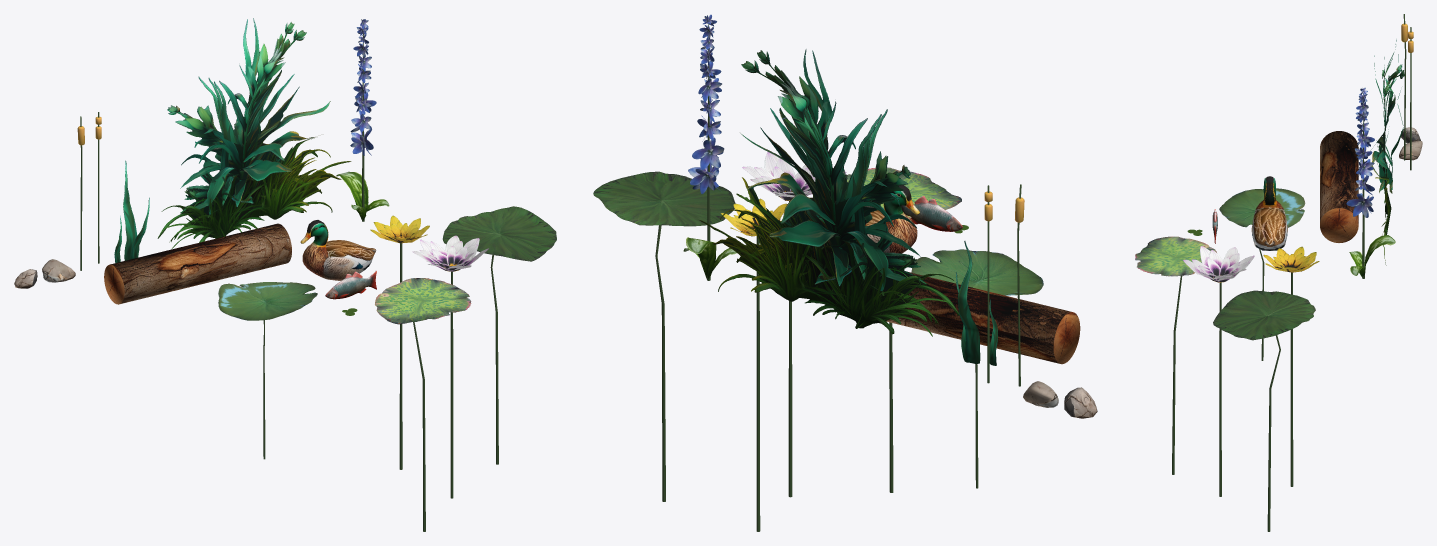
The model's file is pond.fbx.
3 views of the same model, side by side, from view 1: azimuth 30°, elevation 25°; view 2: azimuth 150°, elevation 25°; view 3: azimuth 270°, elevation 25° (orthographic). The views are drawn at different scales.
Visible parts, largest first — view 1: grass_01, Cylinder, leaf_02, leaf_03, leaf_01, reed_01, duck, lotus_02, lotus_01, water_grass_02, fish; view 2: grass_01, Cylinder, leaf_02, leaf_01, reed_01, lotus_02, leaf_03, lotus_01, duck, water_grass_02, fish, stone_02 (+3 smaller); view 3: leaf_02, Cylinder, leaf_03, reed_01, lotus_02, leaf_01, duck, grass_01, lotus_01, sedge_02, sedge_01.
Boxes of the visible parts, x1,y1,x2,y2 form: grass_01: (157, 18, 351, 249); Cylinder: (104, 223, 291, 304); leaf_02: (442, 206, 556, 464); leaf_03: (375, 278, 471, 531); leaf_01: (218, 282, 317, 459); reed_01: (336, 19, 389, 221); duck: (300, 220, 376, 280); lotus_02: (412, 235, 488, 498); lotus_01: (370, 215, 429, 469); water_grass_02: (123, 160, 149, 260); fish: (325, 270, 376, 299); grass_01: (699, 49, 959, 336); Cylinder: (886, 272, 1080, 364); leaf_02: (593, 171, 735, 501); leaf_01: (911, 249, 1043, 488); reed_01: (683, 14, 736, 280); lotus_02: (742, 152, 846, 497); leaf_03: (847, 167, 961, 492); lotus_01: (720, 198, 787, 531); duck: (865, 185, 919, 253); water_grass_02: (956, 241, 980, 364); fish: (901, 196, 962, 231); stone_02: (1064, 387, 1097, 418); leaf_02: (1213, 290, 1315, 531); Cylinder: (1320, 131, 1358, 242); leaf_03: (1135, 236, 1216, 474); reed_01: (1346, 87, 1395, 278); lotus_02: (1183, 246, 1254, 496); leaf_01: (1219, 188, 1305, 360); duck: (1251, 176, 1287, 250); grass_01: (1370, 39, 1404, 265); lotus_01: (1263, 246, 1319, 486); sedge_02: (1401, 14, 1407, 160); sedge_01: (1408, 27, 1413, 170).
Size of the model in its own units: 2586 by 2382 by 1530.
